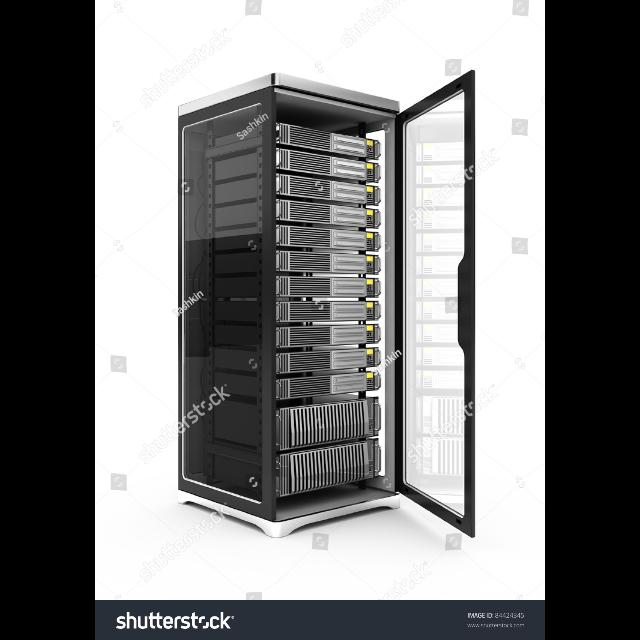Server: (178, 68, 480, 540)
